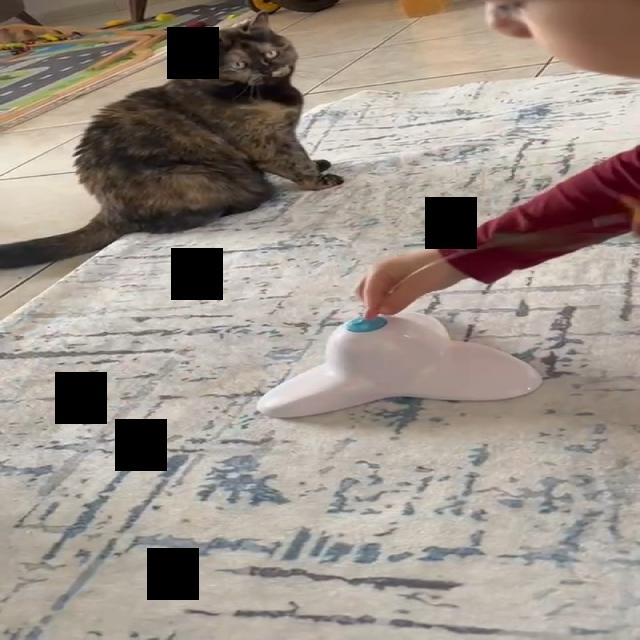authorized: (0, 10, 344, 270)
